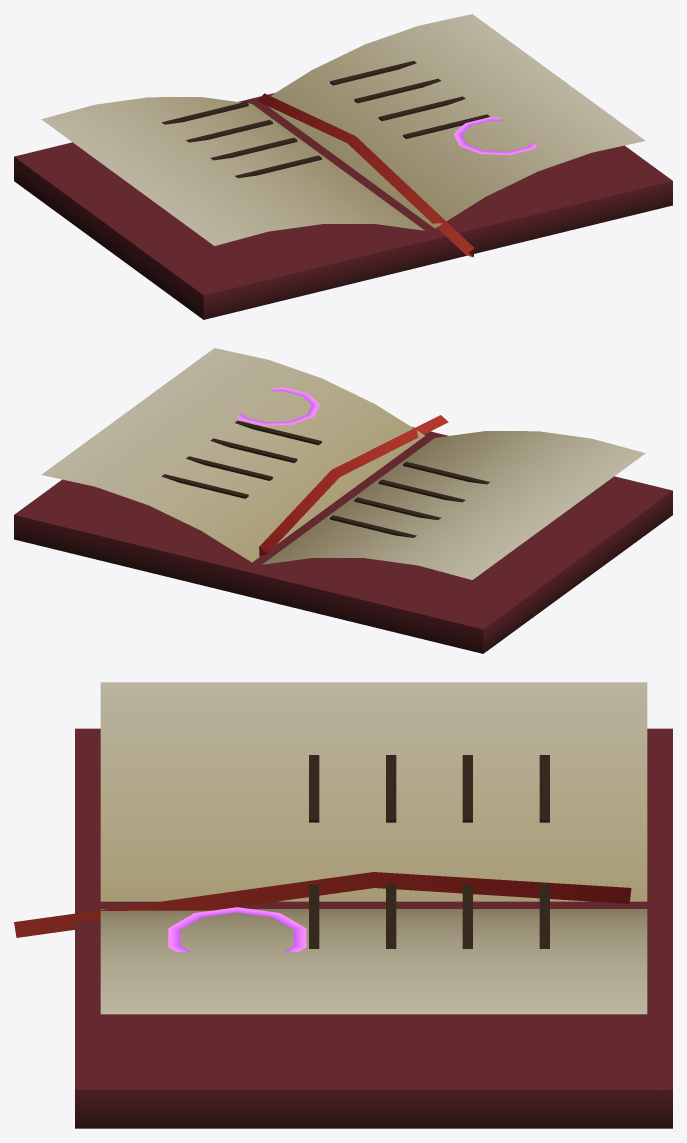
Rendered from open_grimoire.glb.
The picture shows the model from 3 angles, top to bottom: view 1: azimuth 30°, elevation 25°; view 2: azimuth 150°, elevation 25°; view 3: azimuth 270°, elevation 25°; orthographic projection. The views are drawn at different scales.
Visible parts, largest first — view 1: open_grimoire, open_grimoire_glow; view 2: open_grimoire, open_grimoire_glow; view 3: open_grimoire, open_grimoire_glow.
Part boxes in pixels (x1,y1,x2,y2): open_grimoire: (14,14,672,319); open_grimoire_glow: (454,117,536,155); open_grimoire: (14,348,672,653); open_grimoire_glow: (237,387,319,425); open_grimoire: (14,682,672,1128); open_grimoire_glow: (168,907,306,951).
Size of the model in its own units: 1 by 0.1316 by 0.7713.
